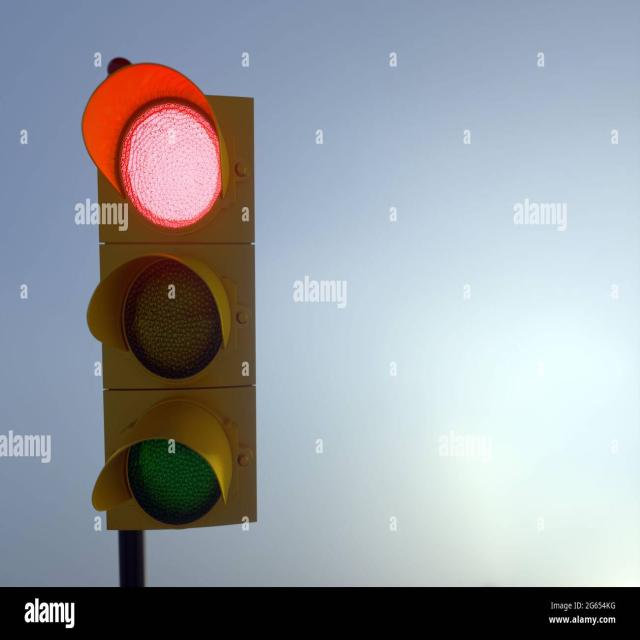red: (98, 79, 242, 231)
